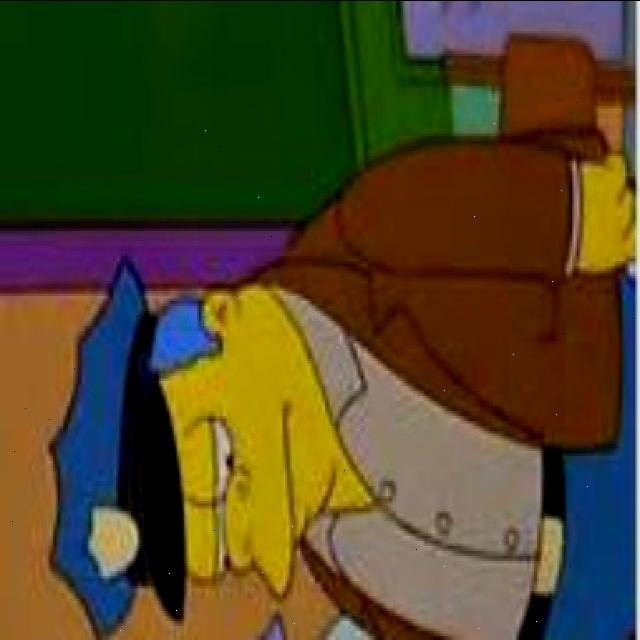Chief Wiggam: (43, 241, 338, 639)
